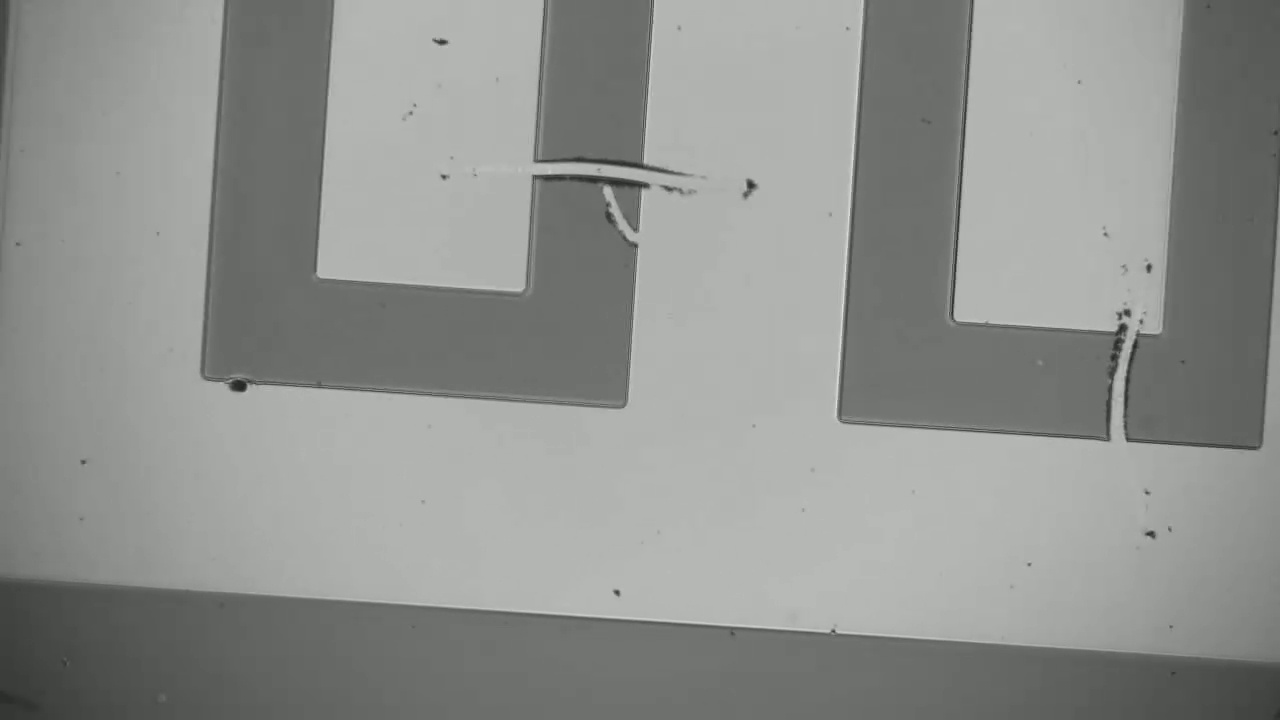Short_circuit: (509, 136, 678, 209), (1091, 307, 1156, 478)
